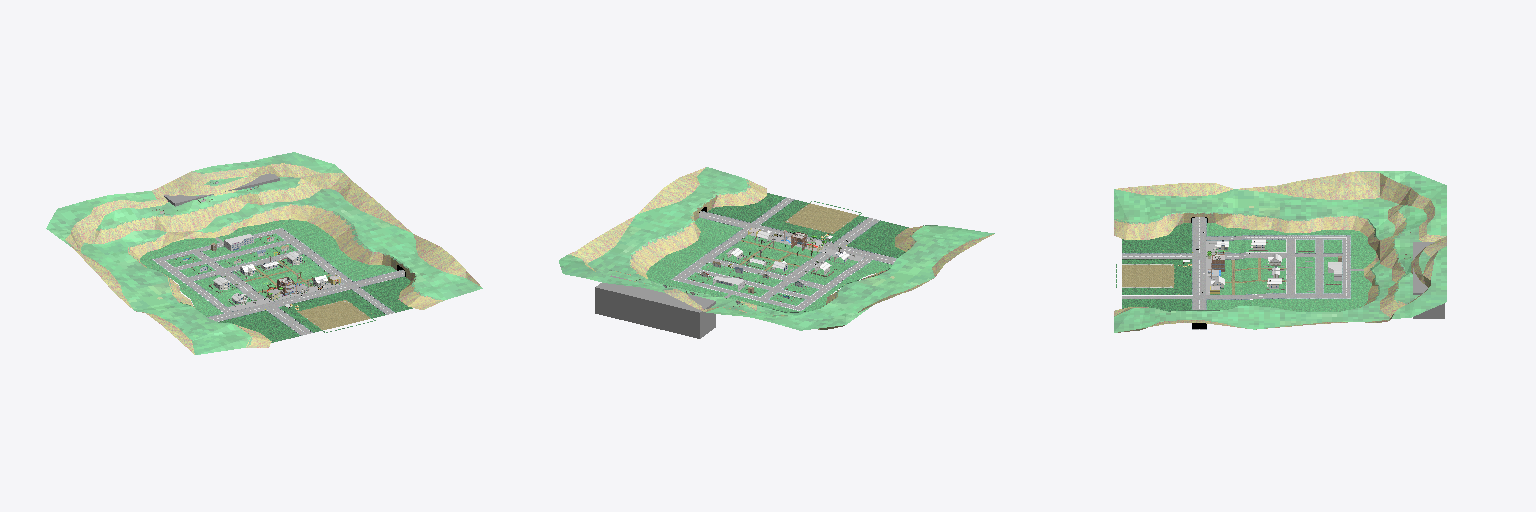
3 renders of one model, left to right at view 1: azimuth 30°, elevation 25°; view 2: azimuth 150°, elevation 25°; view 3: azimuth 270°, elevation 25°, orthographic.
Visible parts, largest first — view 1: polygon196, polygon195, polygon163, polygon18, polygon20, polygon179, polygon22, polygon19, polygon192, Box; view 2: polygon196, polygon163, polygon195, Box, polygon18, polygon20, polygon179, polygon22, polygon19; view 3: polygon196, polygon195, polygon163, polygon18, polygon20, polygon179, polygon22, polygon19, Box, polygon192.
Part boxes in pixels (x1,y1,x2,y2): polygon196: (46, 152, 482, 354); polygon195: (65, 163, 480, 354); polygon163: (140, 219, 396, 316); polygon18: (218, 277, 412, 342); polygon20: (186, 252, 404, 335); polygon179: (155, 229, 312, 282); polygon22: (297, 300, 369, 329); polygon19: (152, 228, 404, 335); polygon192: (96, 184, 443, 346); Box: (164, 173, 279, 206); polygon196: (559, 167, 994, 330); polygon163: (646, 218, 892, 312); polygon195: (568, 167, 993, 329); Box: (595, 275, 715, 338); polygon18: (708, 193, 908, 257); polygon20: (699, 198, 895, 287); polygon179: (673, 257, 830, 310); polygon22: (785, 203, 858, 233); polygon19: (671, 197, 896, 310); polygon196: (1114, 171, 1446, 332); polygon195: (1114, 171, 1446, 332); polygon163: (1207, 223, 1375, 311); polygon18: (1122, 223, 1191, 311); polygon20: (1122, 217, 1286, 329); polygon179: (1287, 236, 1349, 297); polygon22: (1122, 264, 1174, 287); polygon19: (1122, 218, 1350, 329); Box: (1413, 242, 1444, 318); polygon192: (1114, 205, 1406, 314).
Size of the model in its own units: 304 by 38.52 by 305.
Materials: 134 (81 with a texture image).